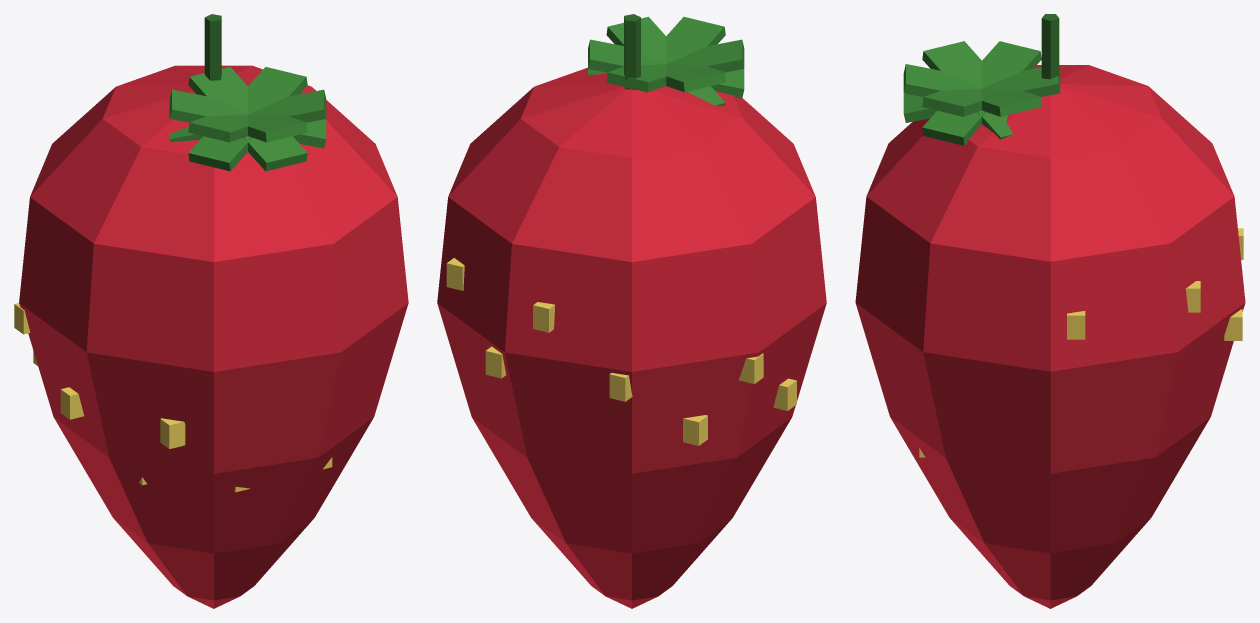
The model's file is uprawa-truskawka.glb.
3 views of the same model, side by side, from view 1: azimuth 30°, elevation 25°; view 2: azimuth 150°, elevation 25°; view 3: azimuth 270°, elevation 25° (orthographic).
Visible parts, largest first — view 1: uprawa-truskawka-0, uprawa-truskawka-3, uprawa-truskawka-4, uprawa-truskawka-5, uprawa-truskawka-2, uprawa-truskawka-1, uprawa-truskawka-6, uprawa-truskawka-7, uprawa-truskawka-10, uprawa-truskawka-16; view 2: uprawa-truskawka-0, uprawa-truskawka-3, uprawa-truskawka-1, uprawa-truskawka-2, uprawa-truskawka-6, uprawa-truskawka-5, uprawa-truskawka-4, uprawa-truskawka-7, uprawa-truskawka-22, uprawa-truskawka-12, uprawa-truskawka-16, uprawa-truskawka-17 (+3 smaller); view 3: uprawa-truskawka-0, uprawa-truskawka-5, uprawa-truskawka-6, uprawa-truskawka-4, uprawa-truskawka-1, uprawa-truskawka-2, uprawa-truskawka-3, uprawa-truskawka-7, uprawa-truskawka-24.
Boxes of the visible parts, x1,y1,x2,y2 form: uprawa-truskawka-0: (19, 65, 408, 608); uprawa-truskawka-3: (188, 67, 307, 171); uprawa-truskawka-4: (188, 66, 307, 171); uprawa-truskawka-5: (169, 89, 326, 148); uprawa-truskawka-2: (169, 89, 326, 142); uprawa-truskawka-1: (248, 114, 307, 142); uprawa-truskawka-6: (188, 114, 247, 142); uprawa-truskawka-7: (204, 14, 221, 80); uprawa-truskawka-10: (160, 418, 185, 448); uprawa-truskawka-16: (60, 387, 84, 419); uprawa-truskawka-0: (437, 67, 826, 608); uprawa-truskawka-3: (588, 39, 744, 98); uprawa-truskawka-1: (666, 17, 725, 63); uprawa-truskawka-2: (606, 16, 725, 105); uprawa-truskawka-6: (588, 39, 744, 75); uprawa-truskawka-5: (666, 64, 725, 92); uprawa-truskawka-4: (606, 64, 666, 92); uprawa-truskawka-7: (624, 14, 640, 90); uprawa-truskawka-22: (683, 415, 707, 445); uprawa-truskawka-12: (533, 302, 554, 332); uprawa-truskawka-16: (773, 378, 796, 410); uprawa-truskawka-17: (609, 373, 632, 401); uprawa-truskawka-0: (855, 65, 1245, 608); uprawa-truskawka-5: (922, 41, 1041, 145); uprawa-truskawka-6: (922, 41, 1012, 139); uprawa-truskawka-4: (903, 67, 1060, 122); uprawa-truskawka-1: (903, 64, 981, 96); uprawa-truskawka-2: (922, 88, 981, 116); uprawa-truskawka-3: (982, 88, 1041, 116); uprawa-truskawka-7: (1041, 14, 1059, 79); uprawa-truskawka-24: (1067, 311, 1085, 339).
Size of the model in its own units: 0.7295 by 1.24 by 0.7407.
